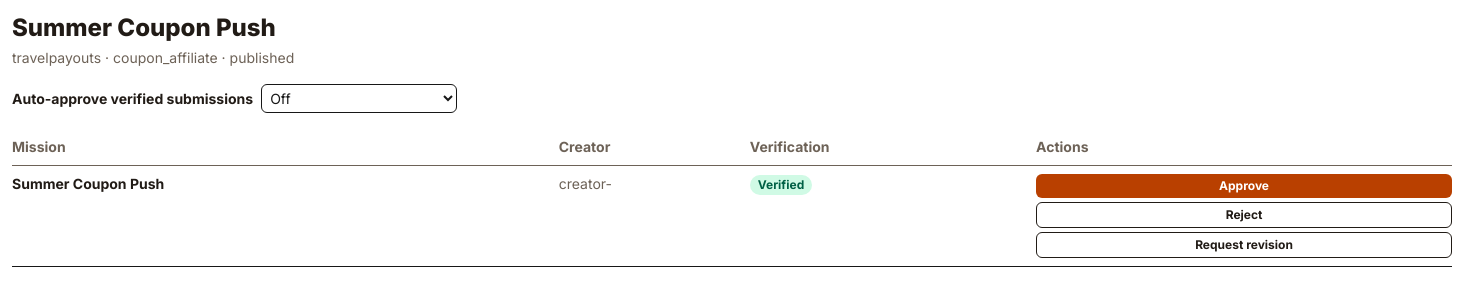
Test: MissionDetailView › rolls the auto-approve select back to its prior value when the save fails, instead of showing a policy that never actually took effect
Select "On — verified signal only" in the dropdown labelled "Auto-approve verified submissions" at (359, 98), box [261,84,457,113]
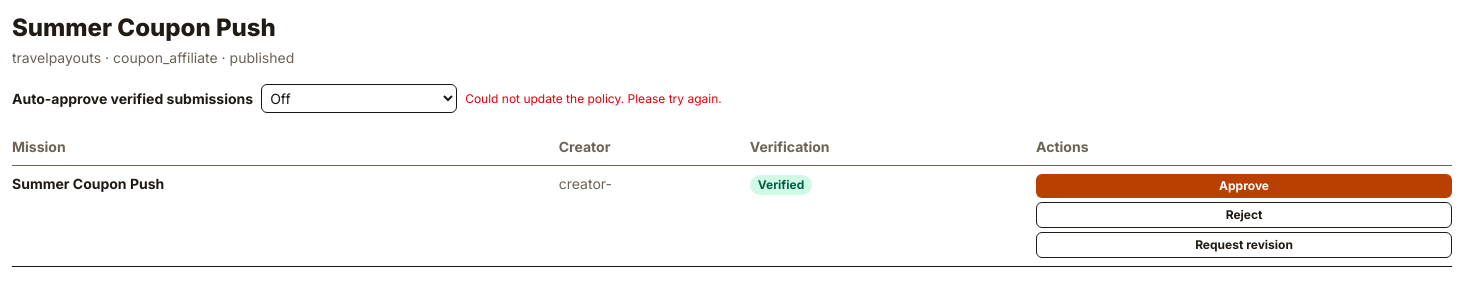
Result: the text "Could not update the policy. Please try again." is shown at [465,90,722,106]
